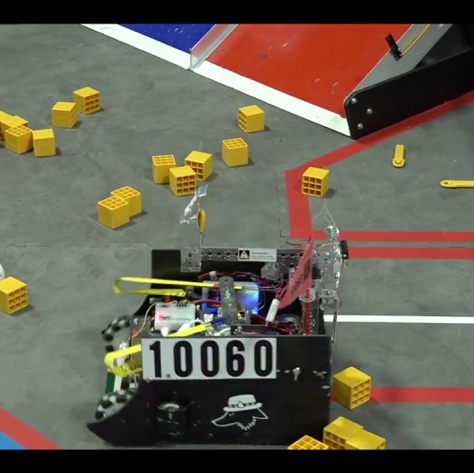robot: (85, 175, 344, 445)
